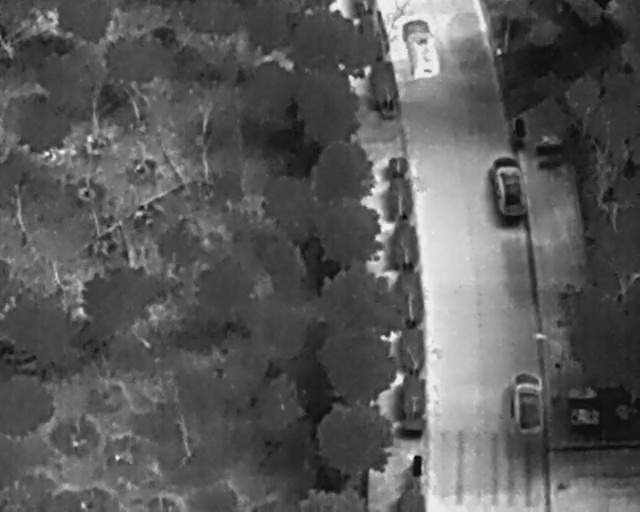Car: (484, 152, 532, 225), (398, 15, 443, 82), (508, 371, 545, 437)
